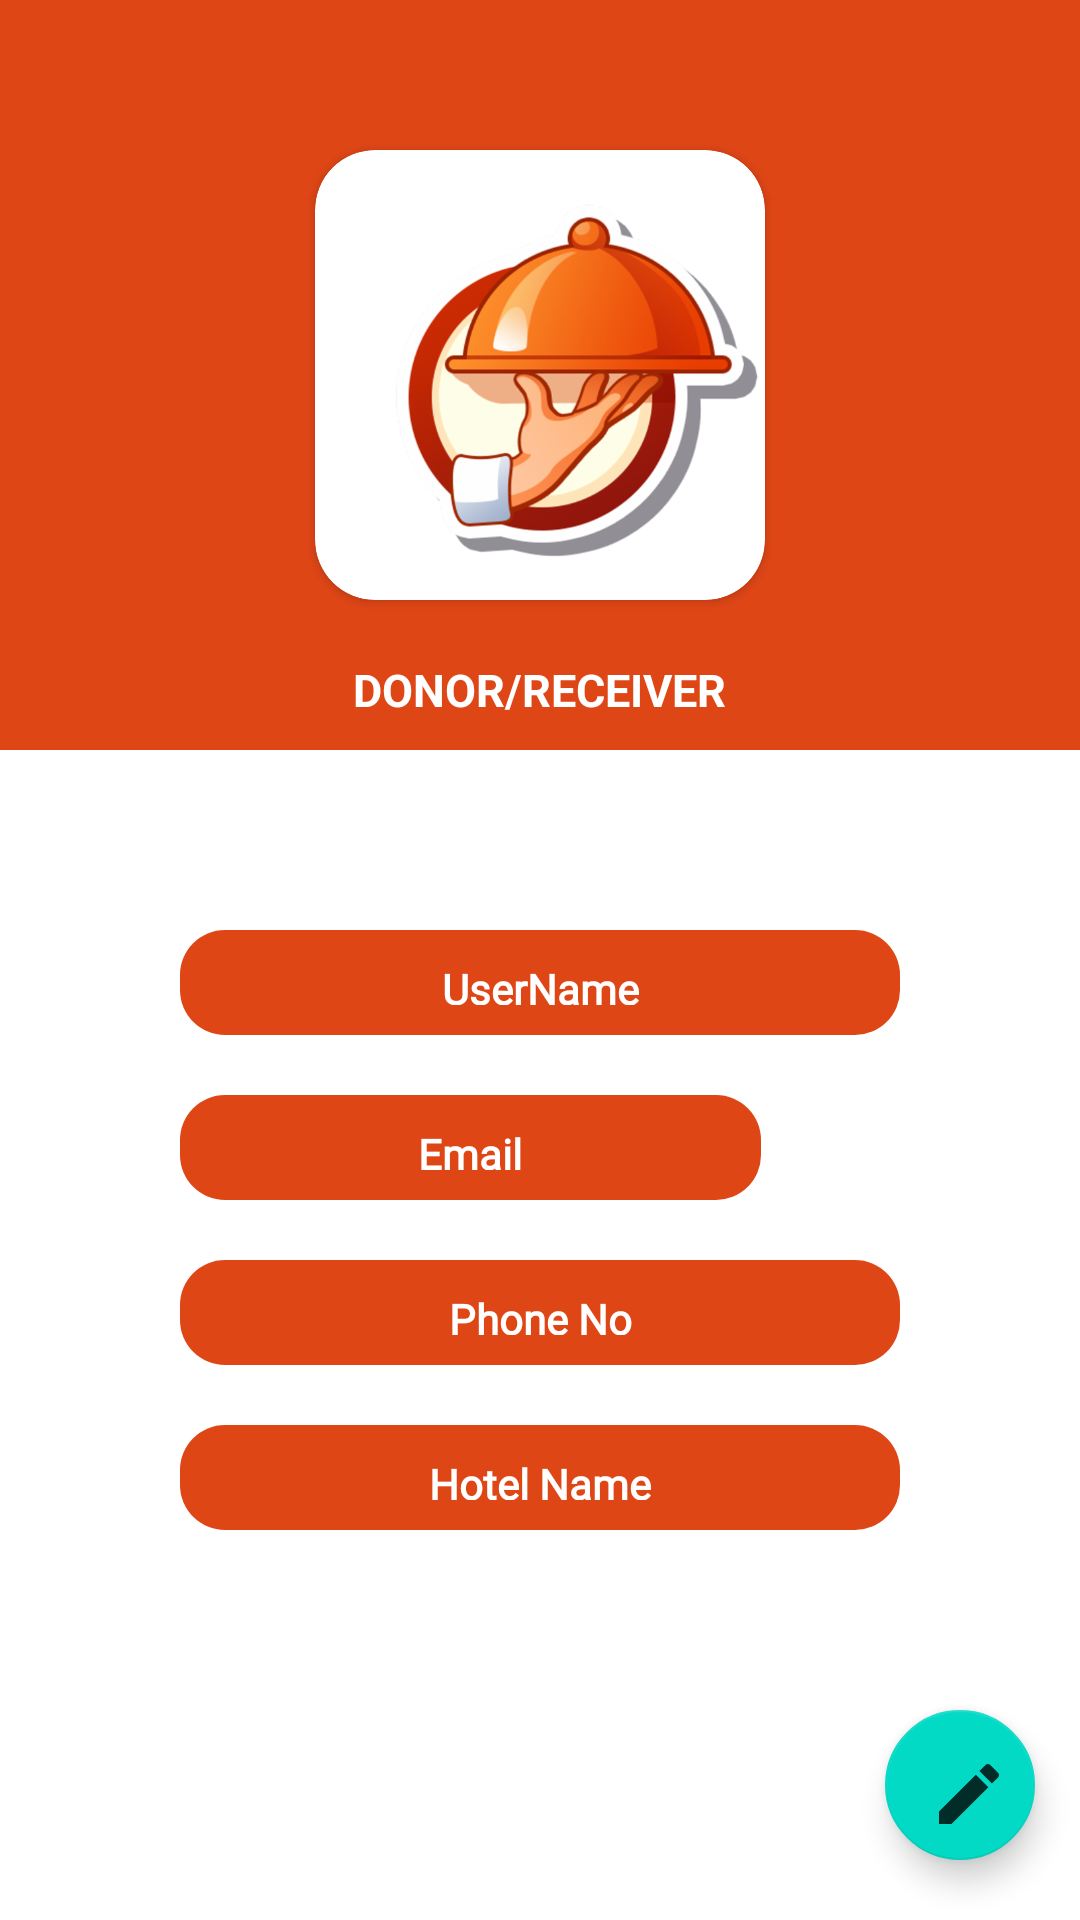

Named icons in this screenshot (1080×1920) and their bounding boxes, (x1, y1, x2, y2):
pencil: (885, 1710, 1035, 1860)
